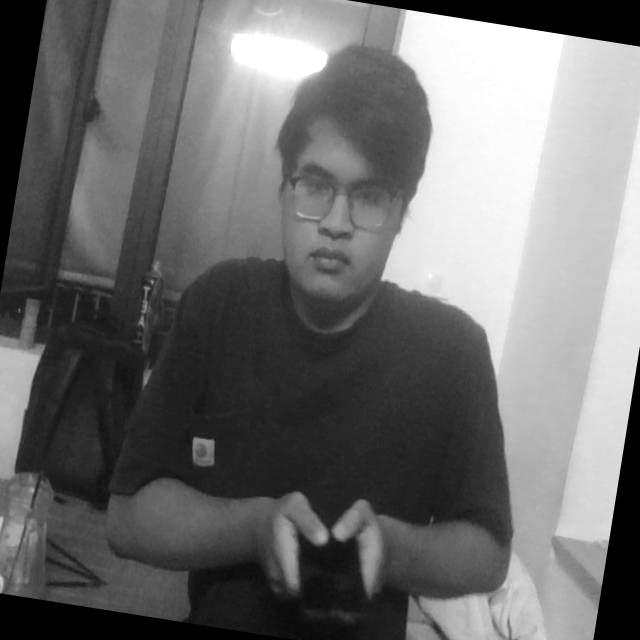phone: (278, 489, 387, 640)
